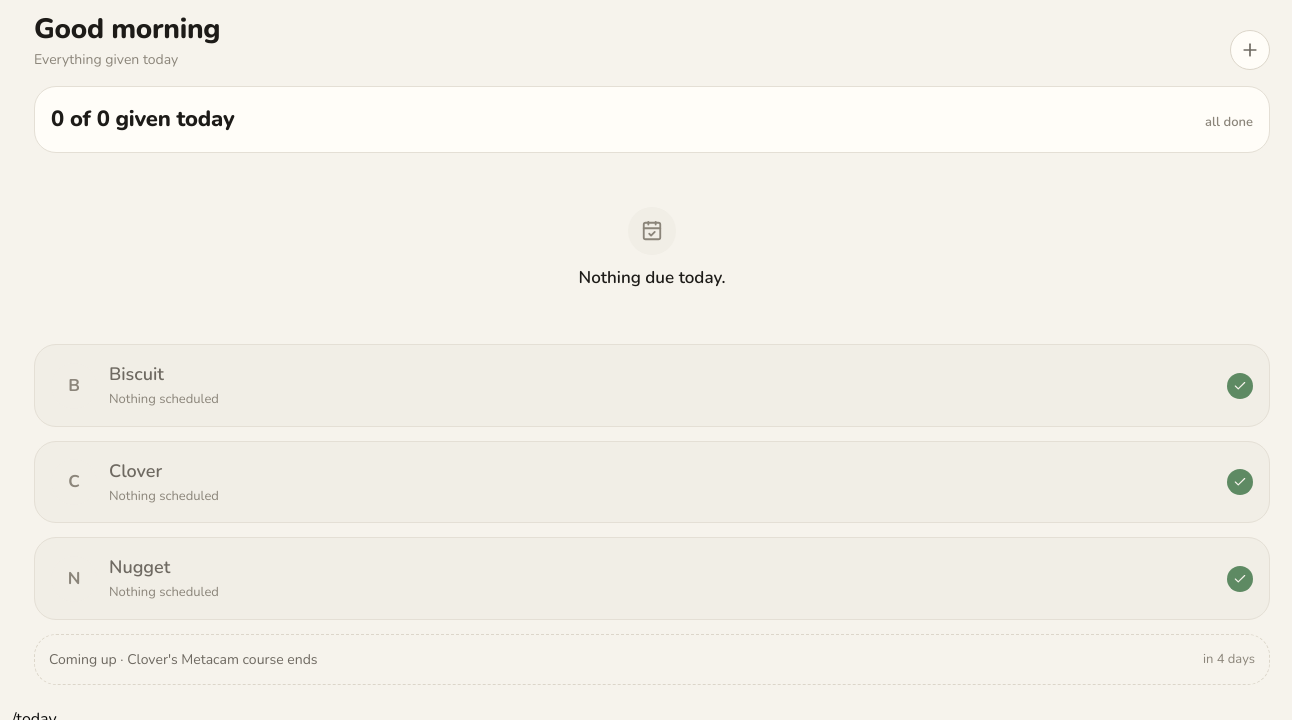
it: TodayPage › names the header's + control by what it does, not the glyph, before and after data loads
Expected: the heading "Good morning" is shown, [34, 14, 220, 45]
Step 1. Click the button named "Add a course" → point(1250, 50), box [1230, 30, 1270, 70]
(page scrolled)
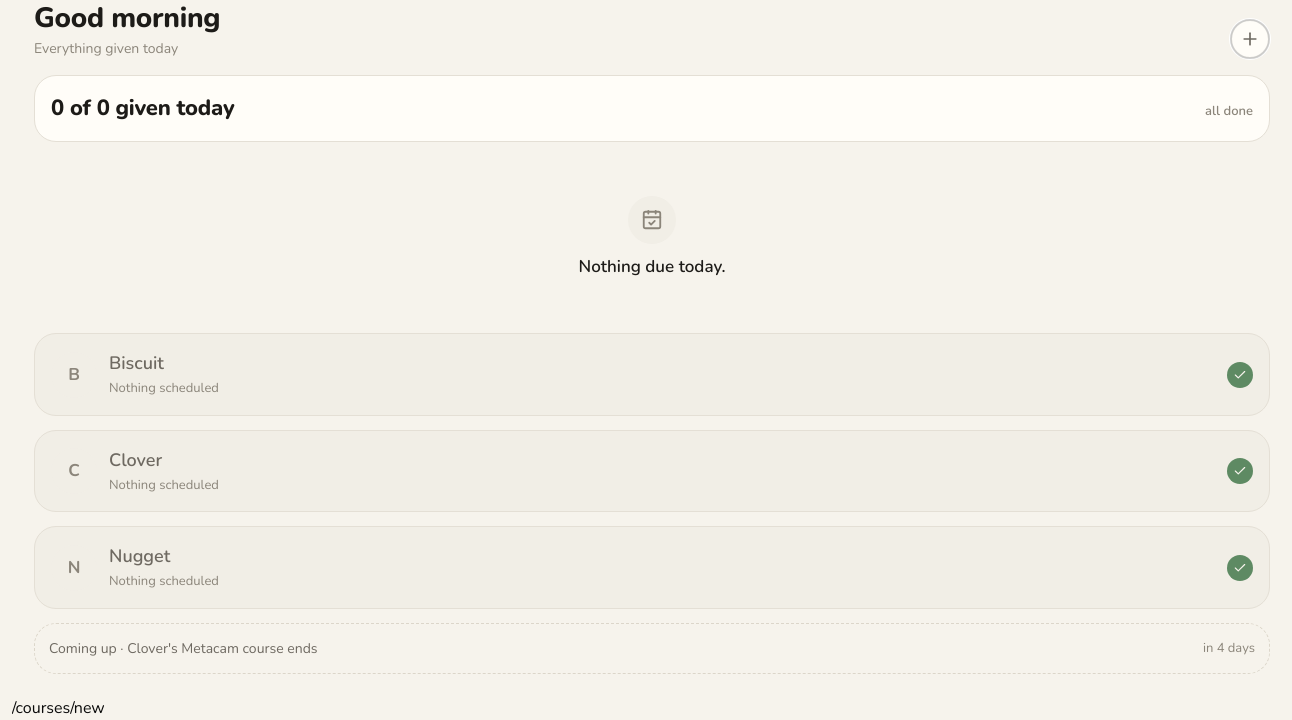
Expected: the text with test id "pathname" reads "/courses/new", [12, 697, 105, 719]
